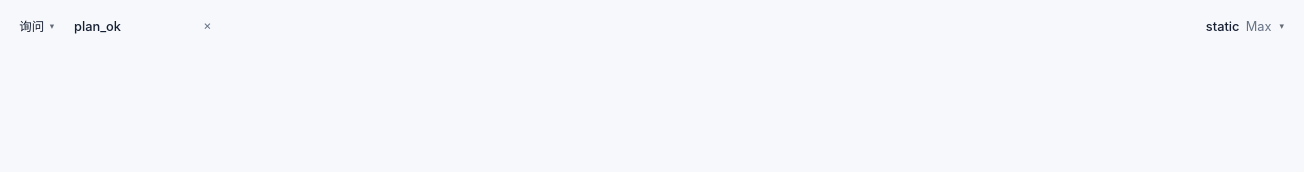
Test case: ChatSeats › commits planId on Enter and reverts draft on Escape
Replace the text in the field with test id "agent-chat-seat-plan" showing "×" with "plan_next" at (131, 26), box [67, 12, 195, 40]
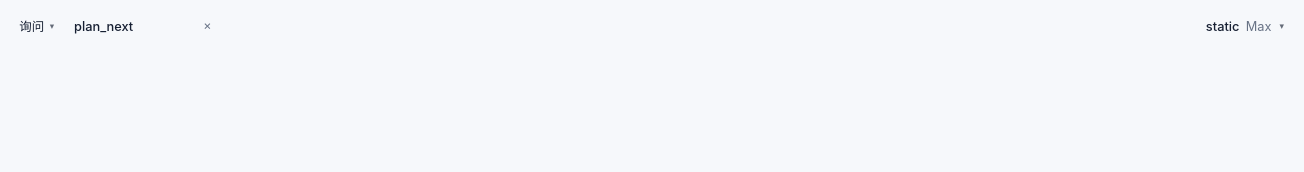
Press Enter in the field with test id "agent-chat-seat-plan" showing "×", box [67, 12, 195, 40]
Replace the text in the field with test id "agent-chat-seat-plan" showing "×" with "plan_draft" at (131, 26), box [67, 12, 195, 40]
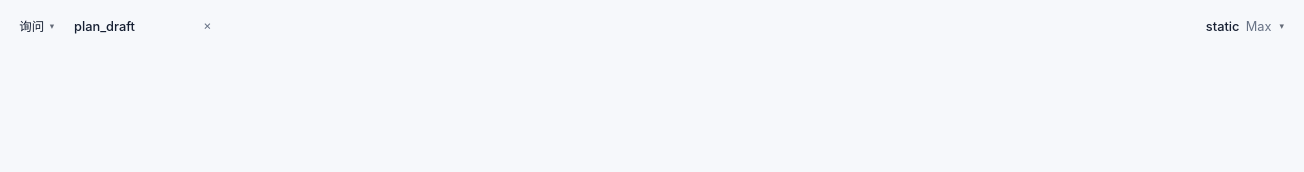
Press Escape in the field with test id "agent-chat-seat-plan" showing "×", box [67, 12, 195, 40]
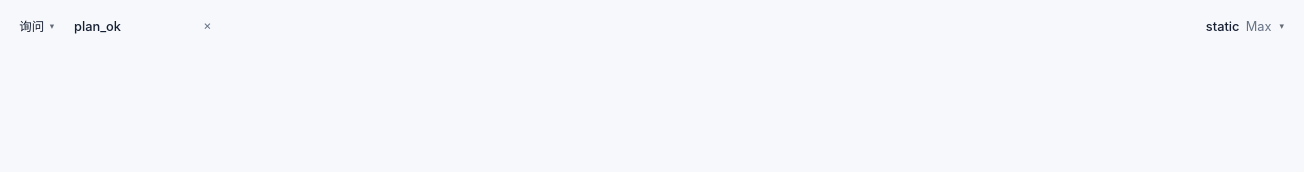
Now the field with test id "agent-chat-seat-plan" holds "plan_ok", box [67, 12, 195, 40]
